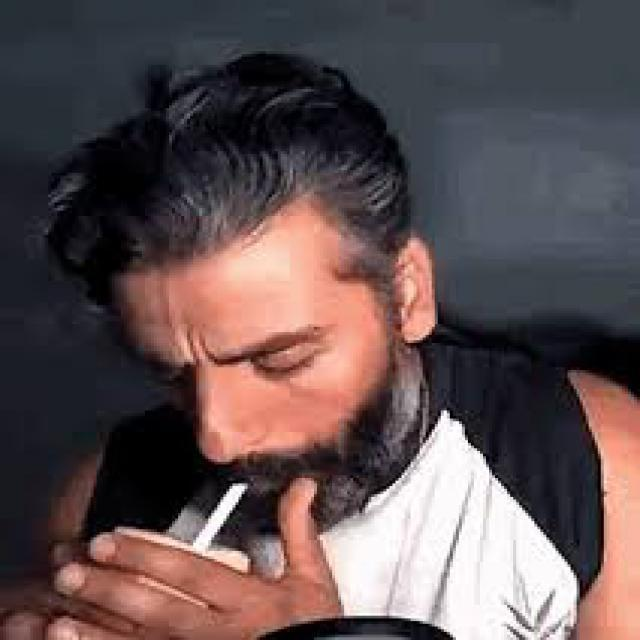smoking: (181, 461, 255, 561)
